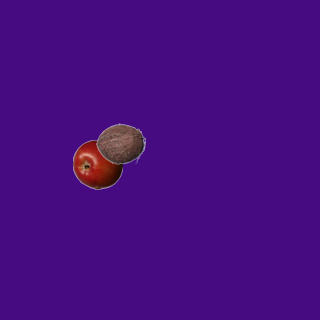Apple Braeburn: (72, 139, 122, 189)
Cocos: (95, 118, 145, 168)
